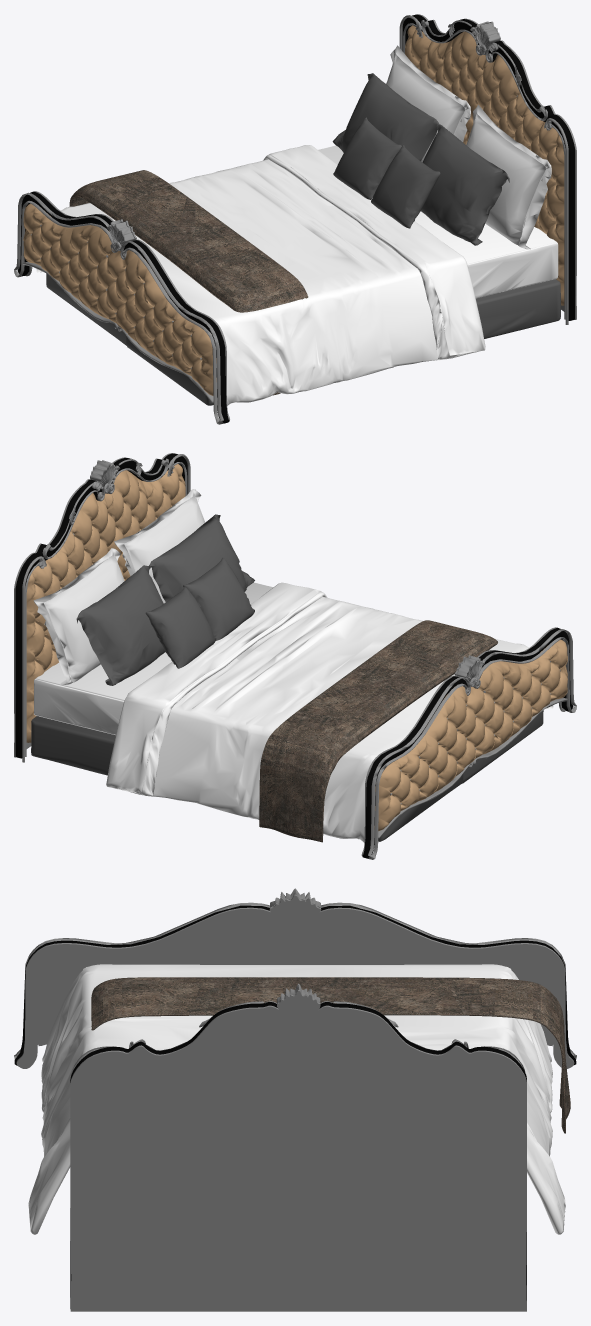
The model's file is bed.glb.
3 views of the same model, one above another, from view 1: azimuth 30°, elevation 25°; view 2: azimuth 150°, elevation 25°; view 3: azimuth 270°, elevation 25° (orthographic). The views are drawn at different scales.
Visible parts, largest first — view 1: 被子_Defintion, Box04, Plane52_Defintion, Plane51_Defintion, 枕头01_Defintion, 床垫_Defintion, 枕头04, 床架垫_Defintion, 枕头02_Defintion, 枕头03, 细枕头04_Defintion, 细枕头05_Defintion (+10 smaller); view 2: 被子_Defintion, Box04, Plane52_Defintion, Plane51_Defintion, 枕头02_Defintion, 床垫_Defintion, 枕头03, Box03_Defintion, 枕头01_Defintion, 枕头04, 细枕头05_Defintion, 细枕头04_Defintion (+10 smaller); view 3: Shape04_Defintion, 被子_Defintion, Shape03_Defintion293, Box04, Line21_Defintion, Line15_Defintion, Shape02_Defintion, Shape01_Defintion, Line25_Defintion, Line26_Defintion.
Part boxes in pixels (left/top/right/bottom): 被子_Defintion: left=36, top=145, right=485, bottom=405; Box04: left=69, top=170, right=308, bottom=395; Plane52_Defintion: left=23, top=203, right=216, bottom=395; Plane51_Defintion: left=405, top=25, right=564, bottom=305; 枕头01_Defintion: left=421, top=124, right=509, bottom=245; 床垫_Defintion: left=318, top=145, right=558, bottom=298; 枕头04: left=466, top=104, right=551, bottom=249; 床架垫_Defintion: left=126, top=279, right=560, bottom=405; 枕头02_Defintion: left=332, top=73, right=438, bottom=160; 枕头03: left=386, top=45, right=470, bottom=162; 细枕头04_Defintion: left=371, top=145, right=440, bottom=228; 细枕头05_Defintion: left=333, top=117, right=401, bottom=199; 被子_Defintion: left=106, top=582, right=553, bottom=842; Box04: left=259, top=620, right=497, bottom=842; Plane52_Defintion: left=374, top=639, right=567, bottom=831; Plane51_Defintion: left=26, top=464, right=185, bottom=742; 枕头02_Defintion: left=76, top=565, right=165, bottom=685; 床垫_Defintion: left=34, top=582, right=272, bottom=735; 枕头03: left=33, top=548, right=124, bottom=685; Box03_Defintion: left=31, top=716, right=463, bottom=841; 枕头01_Defintion: left=149, top=514, right=254, bottom=601; 枕头04: left=114, top=489, right=205, bottom=603; 细枕头05_Defintion: left=145, top=586, right=216, bottom=668; 细枕头04_Defintion: left=183, top=557, right=254, bottom=640; Shape04_Defintion: left=70, top=990, right=526, bottom=1311; 被子_Defintion: left=28, top=964, right=565, bottom=1234; Shape03_Defintion293: left=16, top=894, right=574, bottom=1068; Box04: left=91, top=977, right=570, bottom=1133; Line21_Defintion: left=70, top=1002, right=277, bottom=1308; Line15_Defintion: left=319, top=1002, right=526, bottom=1300; Shape02_Defintion: left=14, top=905, right=269, bottom=1065; Shape01_Defintion: left=321, top=905, right=576, bottom=1064; Line25_Defintion: left=321, top=902, right=576, bottom=1059; Line26_Defintion: left=14, top=902, right=269, bottom=1059.
Bounding box in the file's own units: 0.6138 × 0.3662 × 0.5733.
8 materials, 1 textured.
